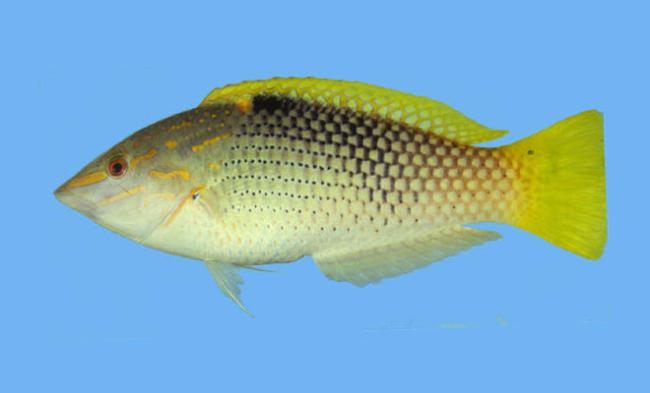fish: (54, 76, 609, 315)
